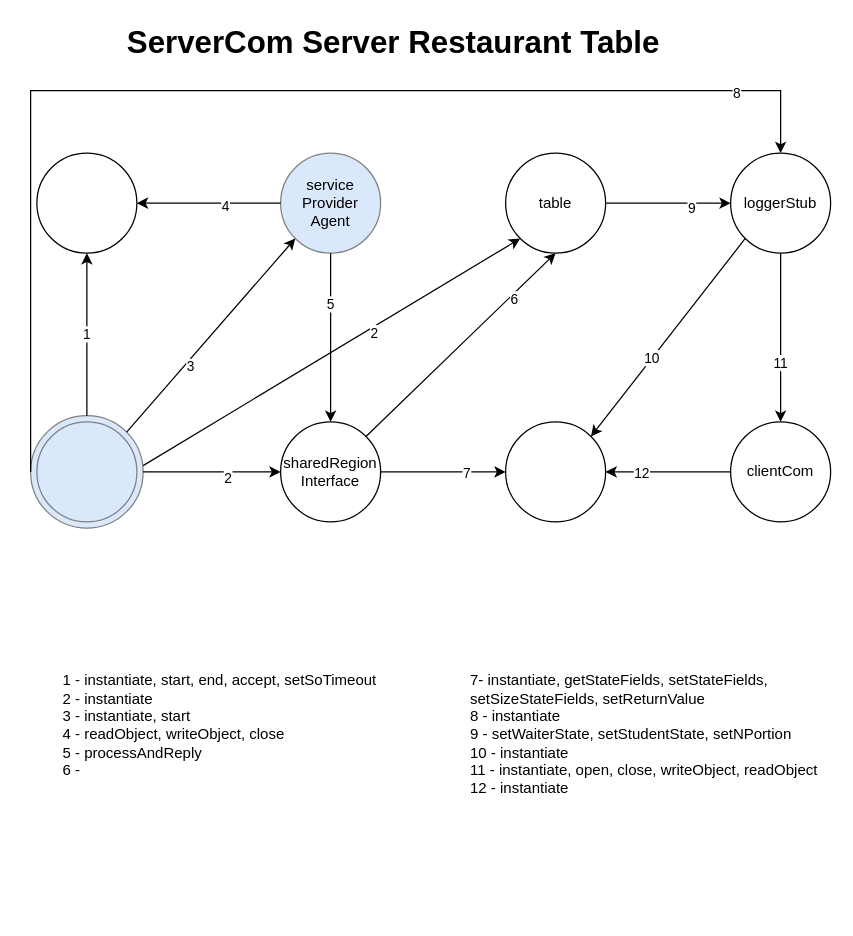
This 853x936 diagram has some shape labels left out. Here are the shapes that lost their labels. From the top down, the centre of each, then its label:
[86,202]: serverCom
[86,471]: Server Restaurant Table
[555,471]: outMessage, inMessage
